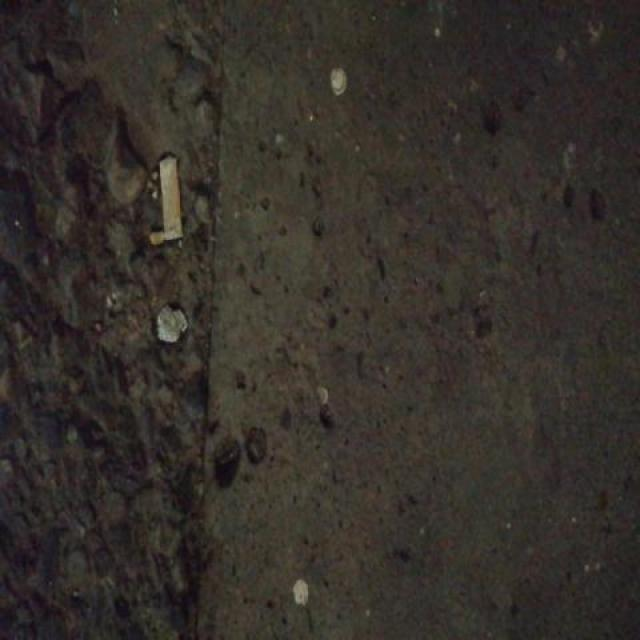non-organic waste: (154, 147, 189, 246)
